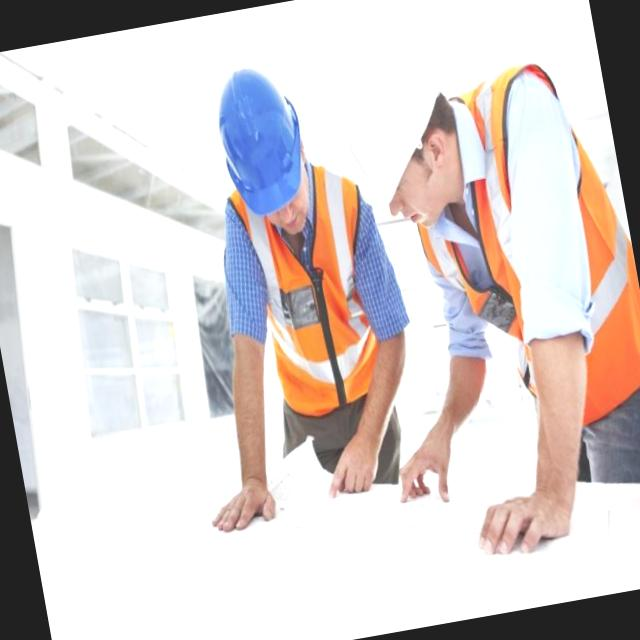helmet: (324, 16, 466, 212), (205, 59, 319, 228)
vest: (319, 0, 640, 554), (397, 46, 640, 513), (226, 169, 392, 419)
